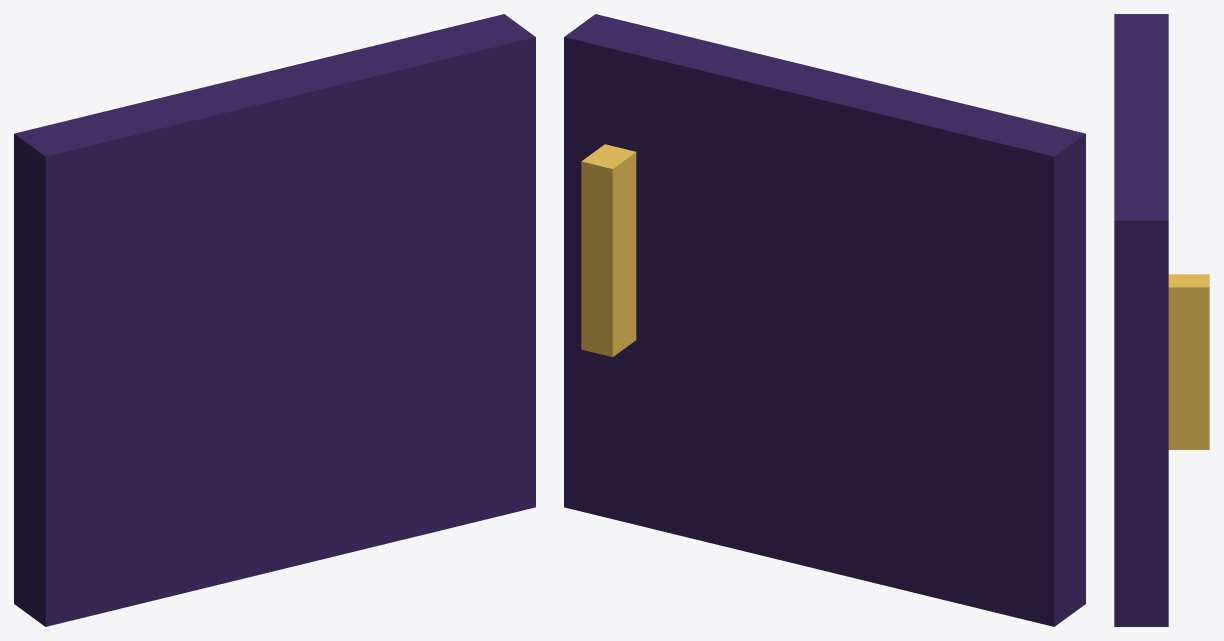
The model's file is Escrivaninha.obj.
The picture shows the model from 3 angles, left to right: view 1: azimuth 30°, elevation 25°; view 2: azimuth 150°, elevation 25°; view 3: azimuth 270°, elevation 25°; orthographic projection. The views are drawn at different scales.
Parts seen in each view (by area): view 1: Porta; view 2: Porta; view 3: Porta.
Part boxes in pixels (bbox=[...]): Porta: bbox=[14, 14, 535, 626]; Porta: bbox=[564, 14, 1085, 626]; Porta: bbox=[1114, 14, 1209, 626].
Bounding box in the file's own units: 0.225 × 0.2063 × 0.0437.
3 materials, 2 textured.
